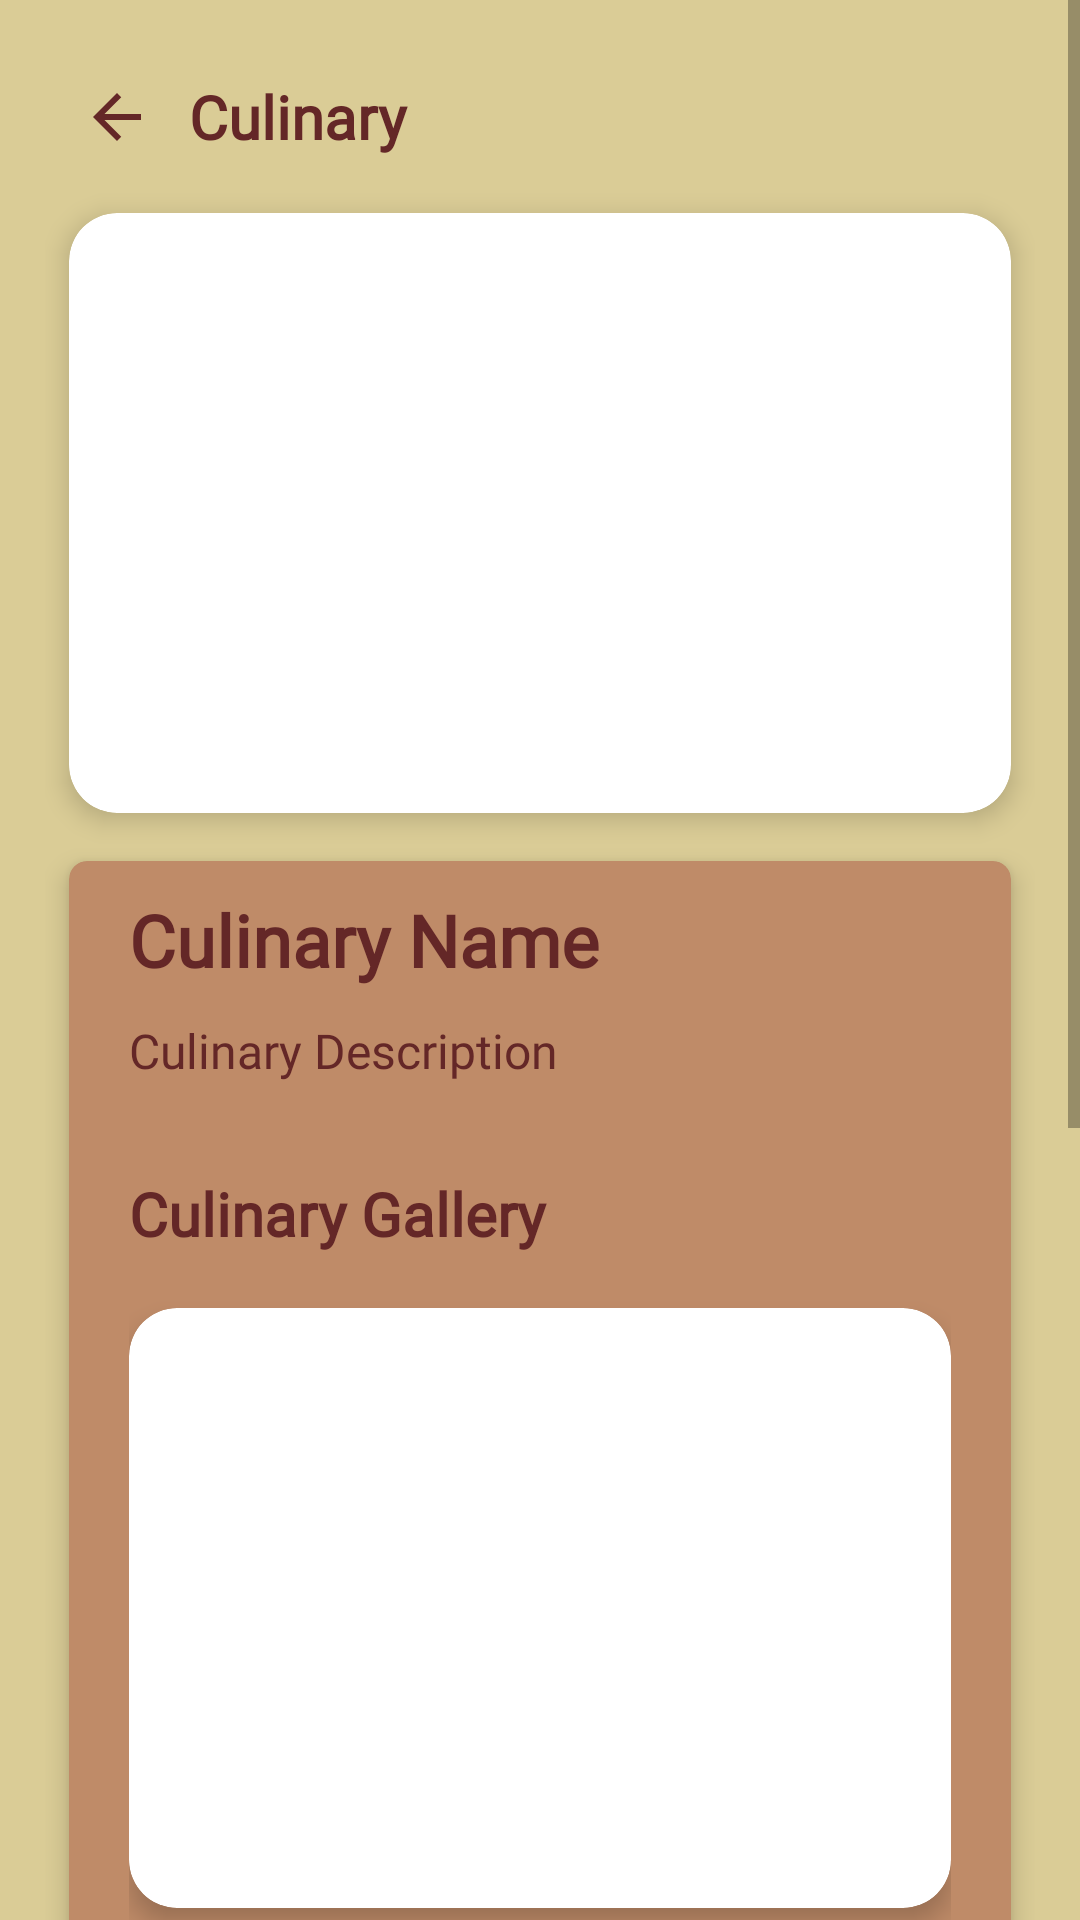

Icon bounding boxes for this 1080*1920 phone screenshot, format (x1, y1, x2, y2):
back: (93, 93, 141, 141)
